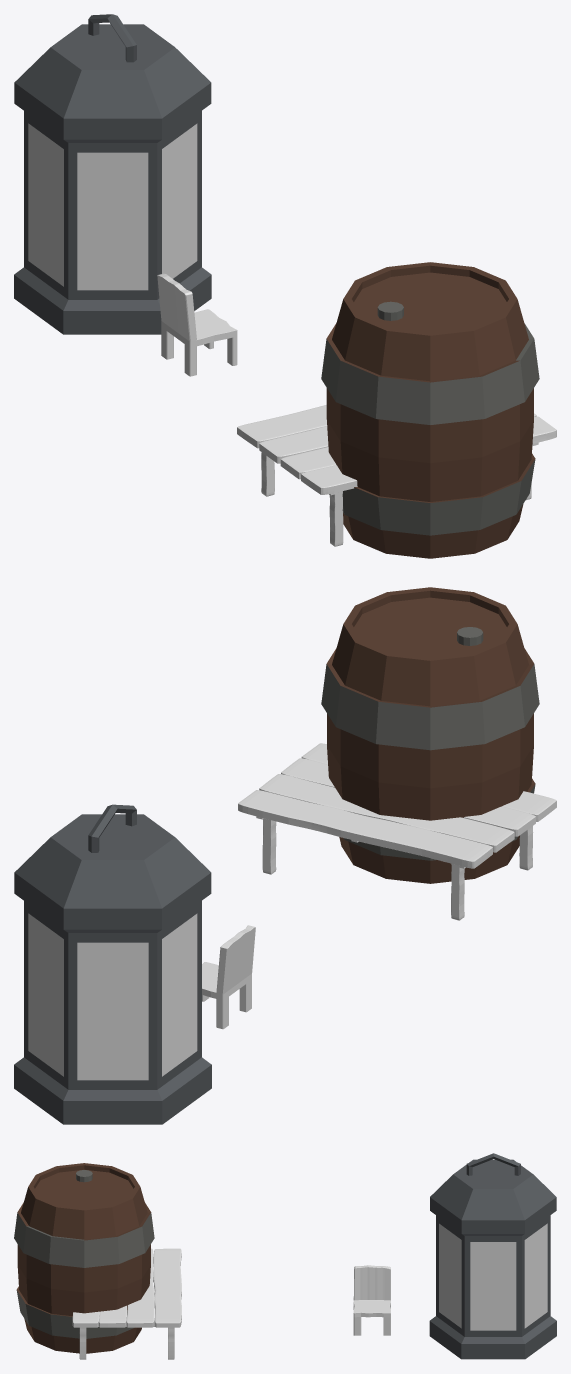
File: Lantern.fbx
3 renders of one model, top to bottom at view 1: azimuth 30°, elevation 25°; view 2: azimuth 150°, elevation 25°; view 3: azimuth 270°, elevation 25°, orthographic. The views are drawn at different scales.
Parts seen in each view (by area): view 1: Barrel, Lantern, TableSurface, Chair, Cube.008; view 2: Lantern, Barrel, TableSurface, Chair, TableLegs, Cube.007; view 3: Lantern, Barrel, TableSurface, Chair.
Boxes of the visible parts, x1,y1,x2,y2 form: Barrel: (321,262,539,558); Lantern: (14,14,211,334); TableSurface: (237,405,556,494); Chair: (157,273,237,376); Cube.008: (329,491,343,546); Lantern: (14,804,211,1124); Barrel: (321,587,539,883); TableSurface: (238,743,556,868); Chair: (202,925,255,1029); TableLegs: (262,818,276,874); Cube.007: (451,863,464,920); Lantern: (429,1153,556,1359); Barrel: (14,1163,154,1353); TableSurface: (72,1248,181,1327); Chair: (353,1265,390,1335).
Bounding box in the file's own units: 308 × 352 × 948.
